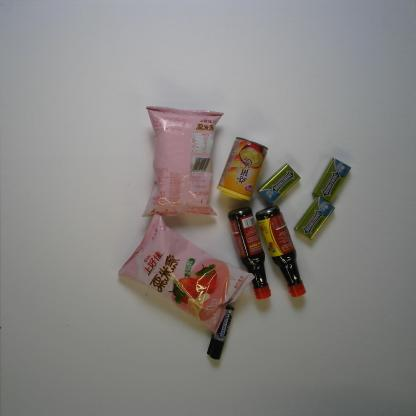Canned Food: (215, 135, 270, 202)
Gum: (256, 162, 301, 206), (293, 194, 335, 241), (311, 156, 352, 204)
Puffed Food: (116, 213, 257, 336), (140, 105, 226, 217)
Seasoner: (254, 204, 306, 298), (226, 206, 272, 300)
Stationery: (206, 304, 235, 361)
